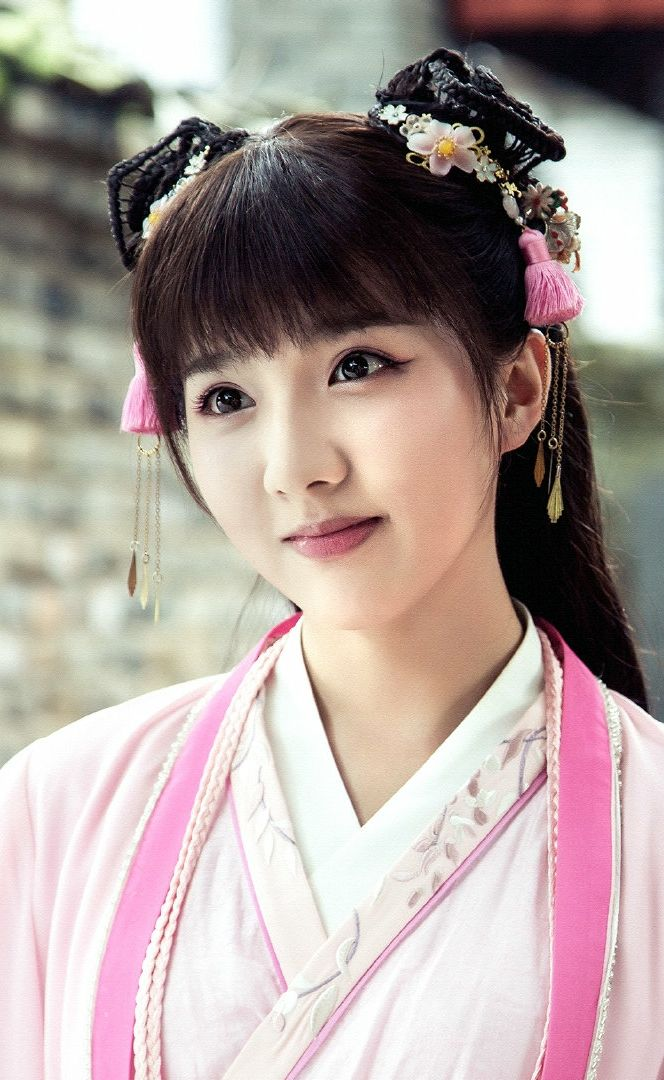person: (55, 79, 664, 1080)
